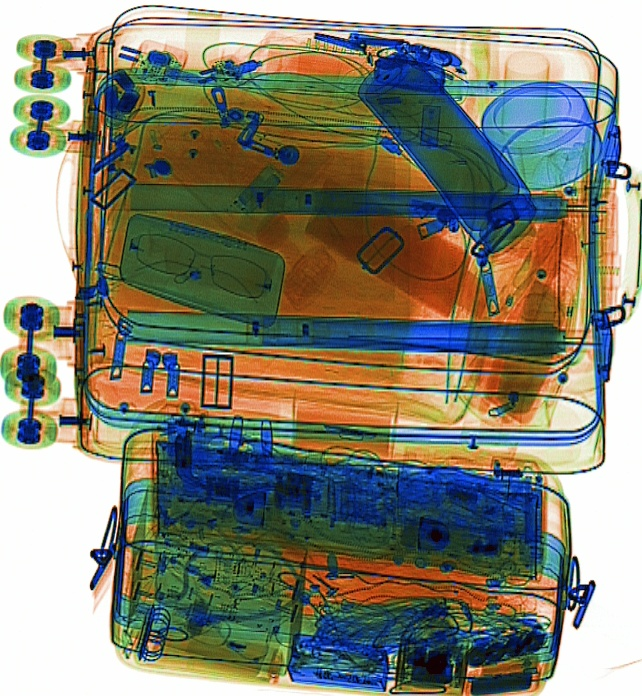powerbank: (460, 621, 548, 670)
